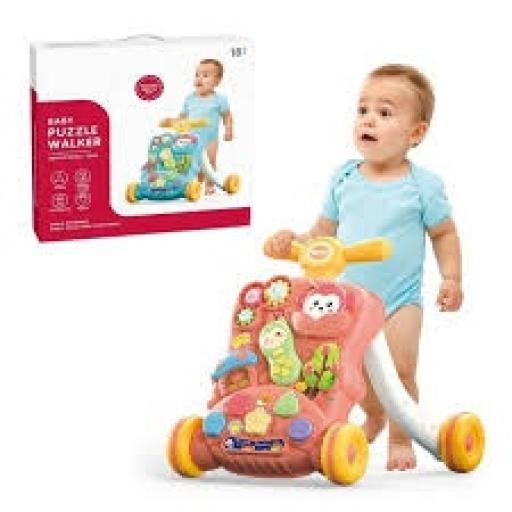baby: (264, 64, 464, 400), (178, 60, 234, 168)
